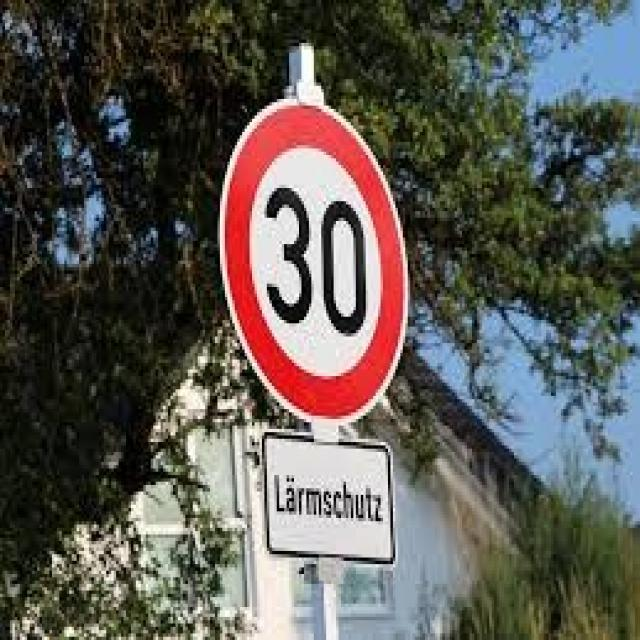speed_limit_30: (210, 92, 416, 426)
